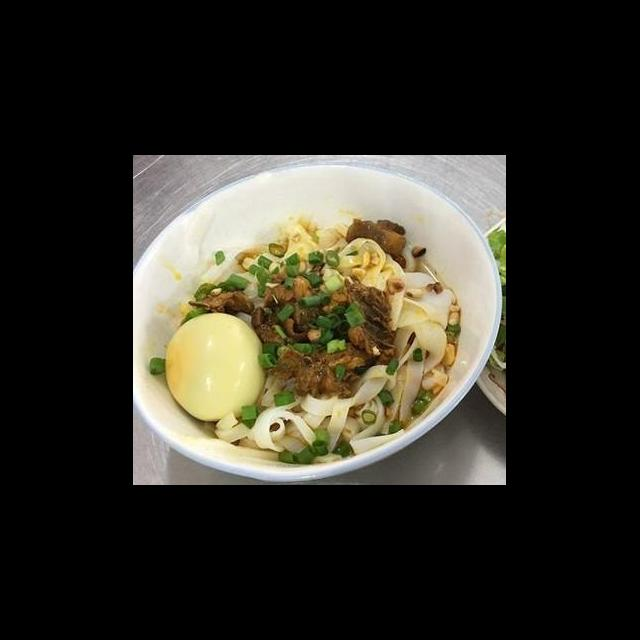mi: (212, 359, 426, 464), (200, 214, 410, 310), (376, 243, 459, 430)
trung: (162, 311, 270, 424)
